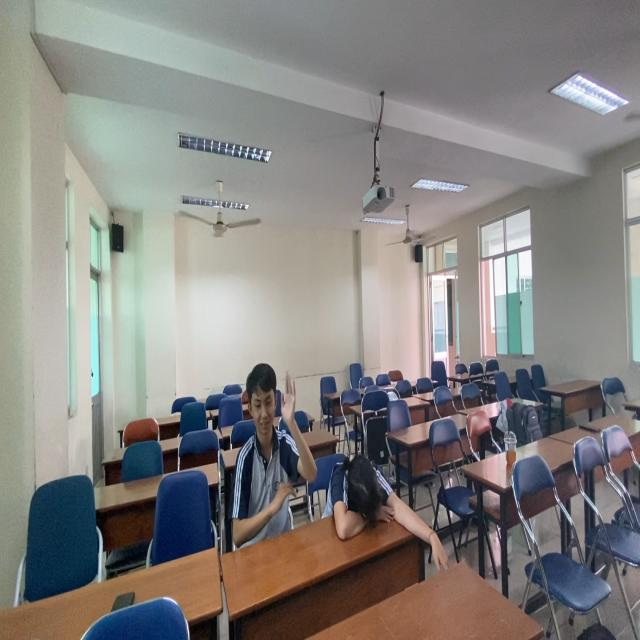raise_hand: (226, 362, 320, 541)
sleep: (328, 430, 429, 563)
